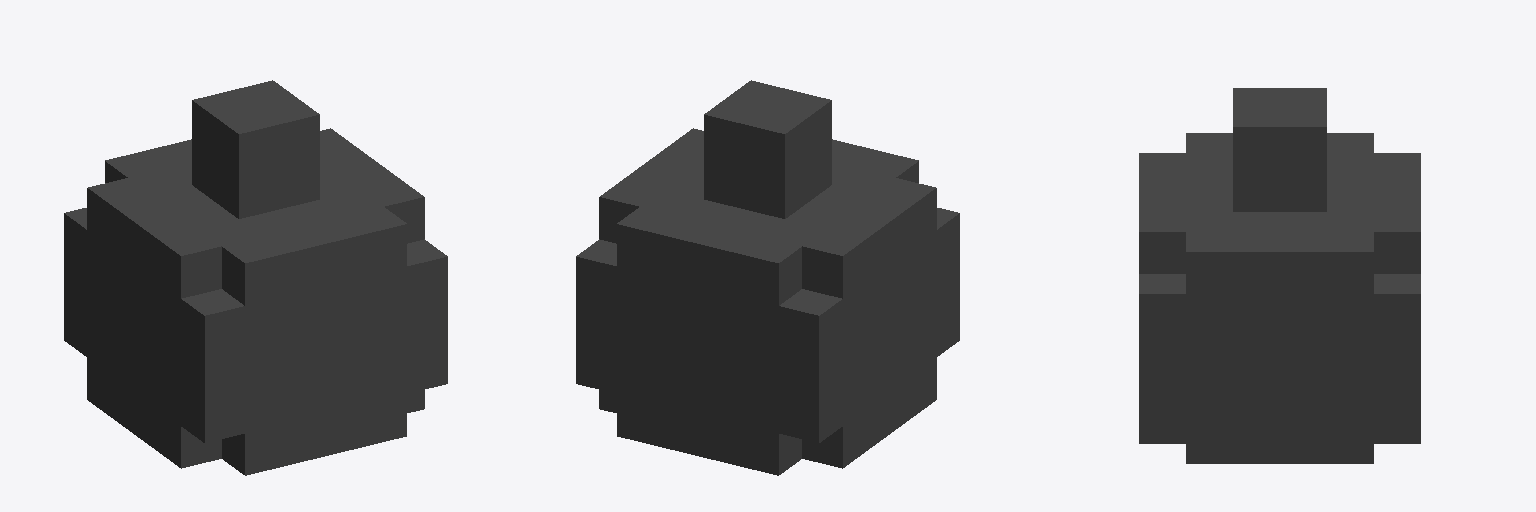
The picture shows the model from 3 angles: view 1: azimuth 30°, elevation 25°; view 2: azimuth 150°, elevation 25°; view 3: azimuth 270°, elevation 25°; orthographic projection.
Parts seen in each view (by area): view 1: object 1; view 2: object 1; view 3: object 1.
Part boxes in pixels (bbox=[...]): object 1: bbox=[64, 80, 447, 475]; object 1: bbox=[576, 80, 959, 475]; object 1: bbox=[1139, 88, 1420, 463].
Bounding box in the file's own units: 0.6 × 0.7 × 0.6.
1 materials, 1 textured.